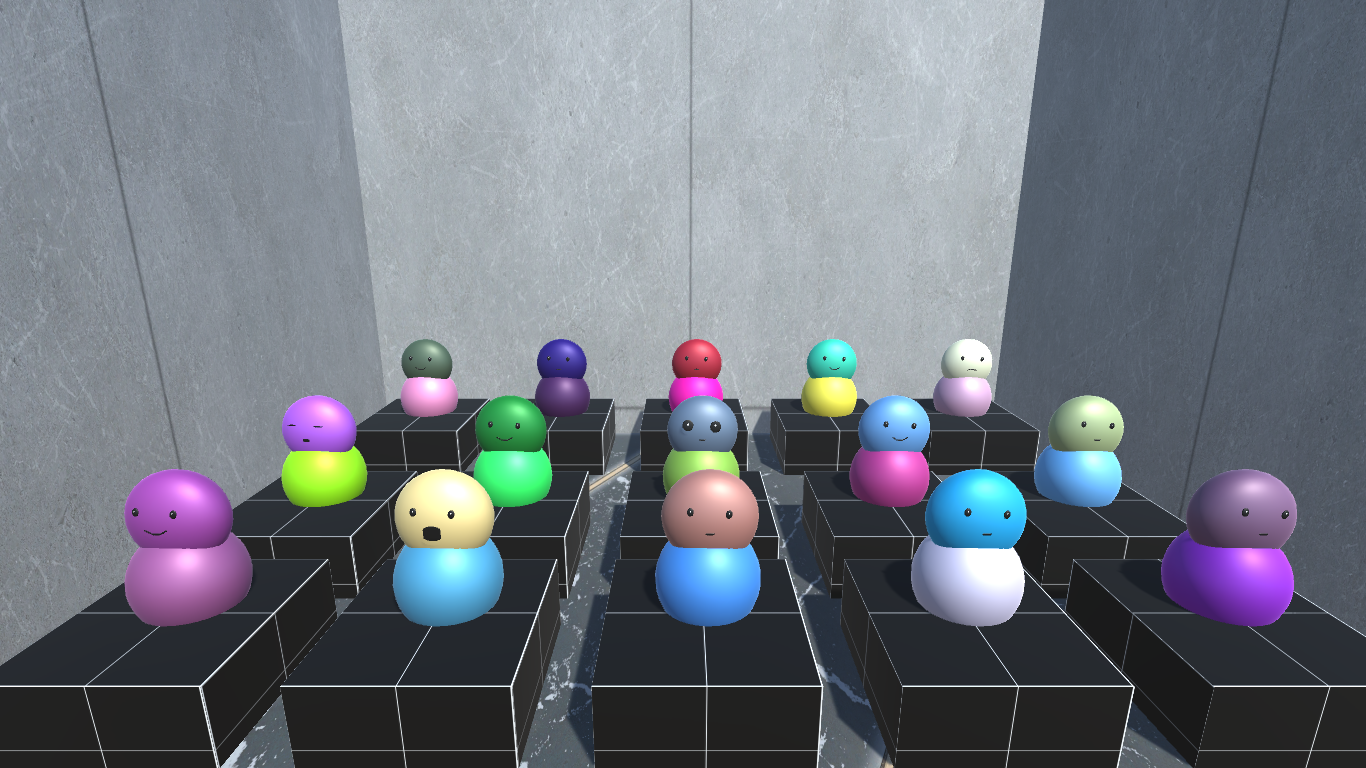blob_atento: (663, 392, 737, 454)
blob_dormindo: (274, 388, 360, 461)
blob_feliz: (118, 465, 239, 557), (471, 394, 549, 456), (854, 394, 928, 458), (395, 333, 456, 385), (803, 335, 856, 382)
blob_normal: (1173, 464, 1300, 552), (920, 464, 1029, 554), (655, 464, 760, 555), (1044, 387, 1127, 457), (667, 336, 723, 385), (530, 337, 592, 380)
blob_surpreso: (388, 466, 494, 555)
blob_triste: (936, 334, 1001, 381)
